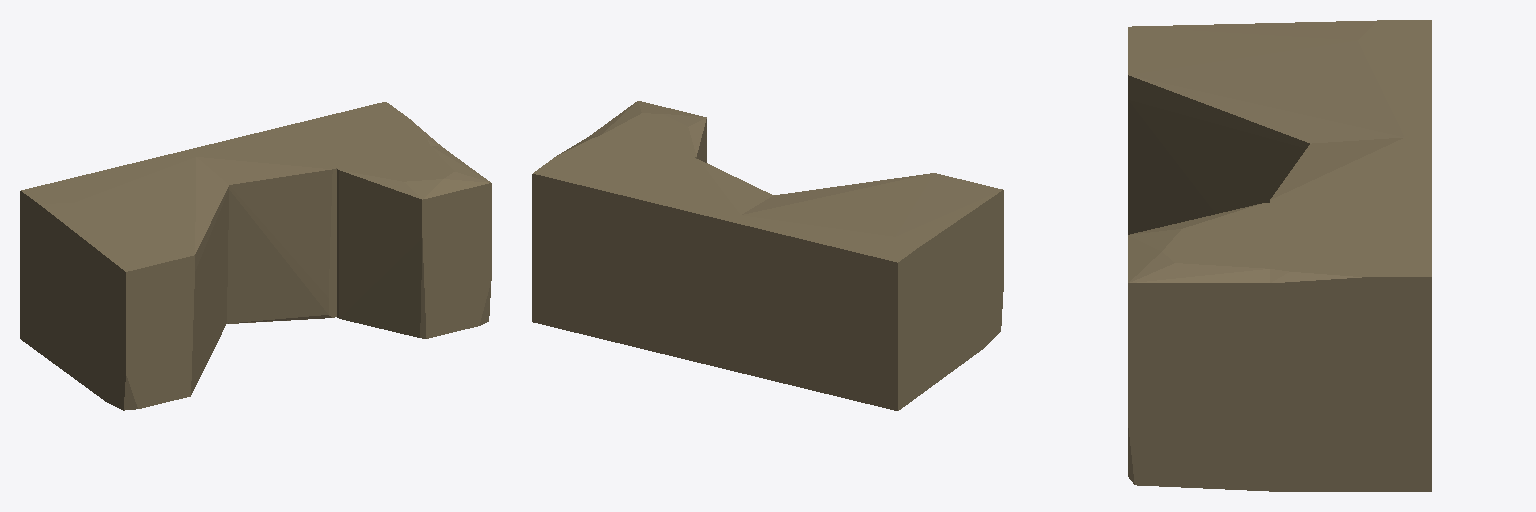
URDF robot description (Bridge):
<?xml version="1.0"?>
<robot name="Bridge">
  <link name="base_link">
    <visual>
      <origin xyz="0 0 0" rpy="0 0 0" />
      <geometry>
        <mesh filename="Bridge_decimated.obj" />      
      </geometry>
      <material name="tan">
        <color rgba="0.55 0.5 0.4 1" />
      </material>
    </visual>
    <collision>
      <origin xyz="0 0 0" rpy="0 0 0" />
      <geometry>
        <mesh filename="Bridge_decimated.obj" />
      </geometry>
    </collision>
  </link>
</robot>

--- Facts derived from the render (not from the file) ---
The picture shows the robot from 3 angles, left to right: view 1: azimuth 30°, elevation 25°; view 2: azimuth 150°, elevation 25°; view 3: azimuth 270°, elevation 25°; orthographic projection.
Robot: Bridge — 1 links, 0 joints (none); root link base_link; default pose: every joint at zero.
Links seen in each view (by area): view 1: base_link; view 2: base_link; view 3: base_link.
Link boxes in pixels (<box>): base_link: <box>20,102,491,410</box>; base_link: <box>532,101,1003,410</box>; base_link: <box>1128,20,1431,491</box>.
Size in the robot's own frame: 50.43 by 25.22 by 19.61 metres.
Meshes: 1 distinct files referenced, 1 mesh visuals loaded (1 OBJ).
